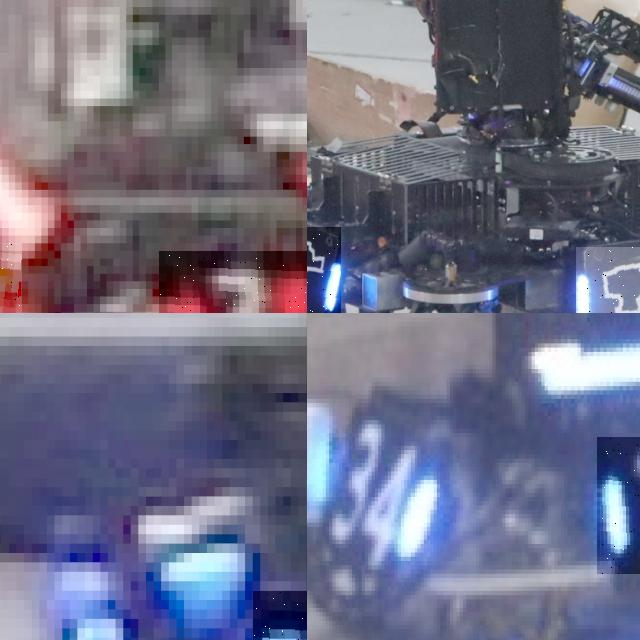B3: (597, 437, 640, 573)
Bs: (576, 247, 640, 313), (307, 226, 341, 313)
R3: (158, 250, 307, 313)
